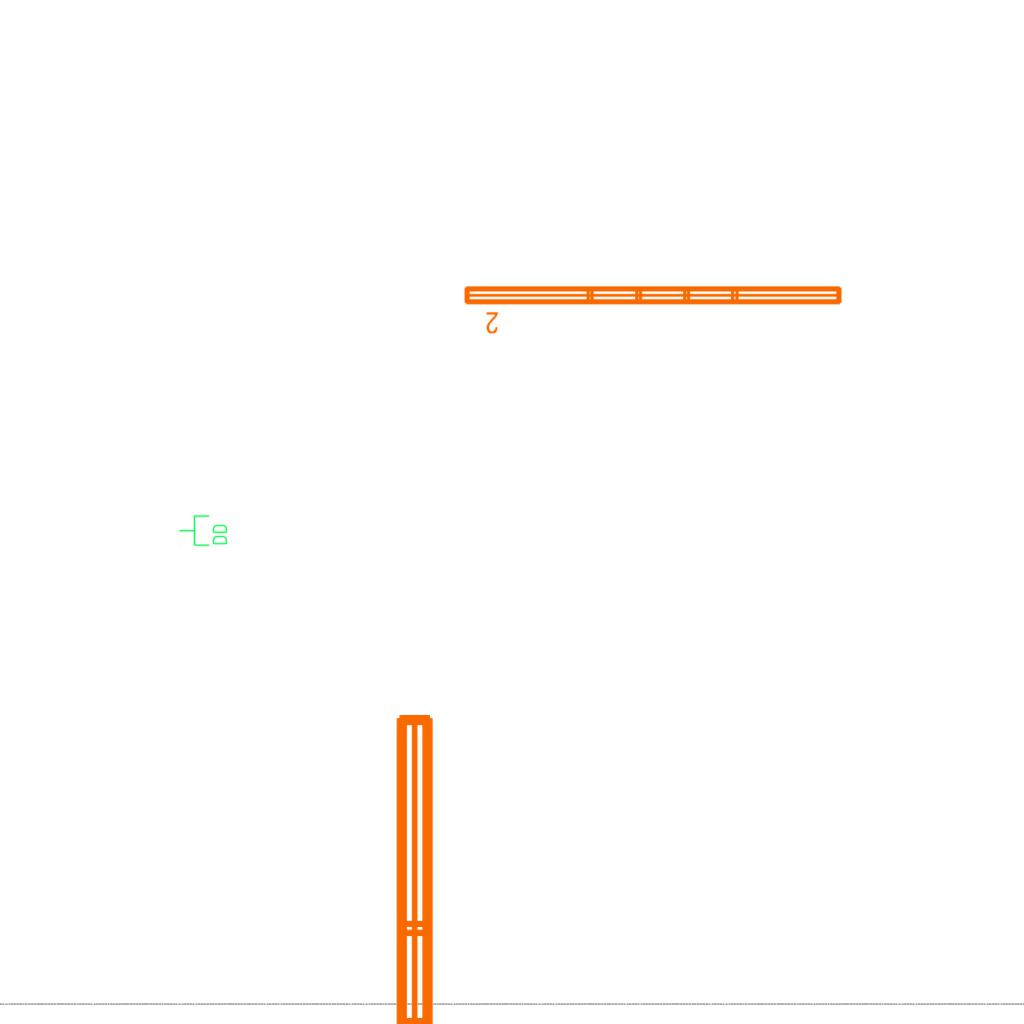Ambulanz_Pendelleuchte_LED: (384, 704, 496, 1024), (460, 280, 847, 336)
Datenanschluss_zweifach: (178, 514, 229, 548)
